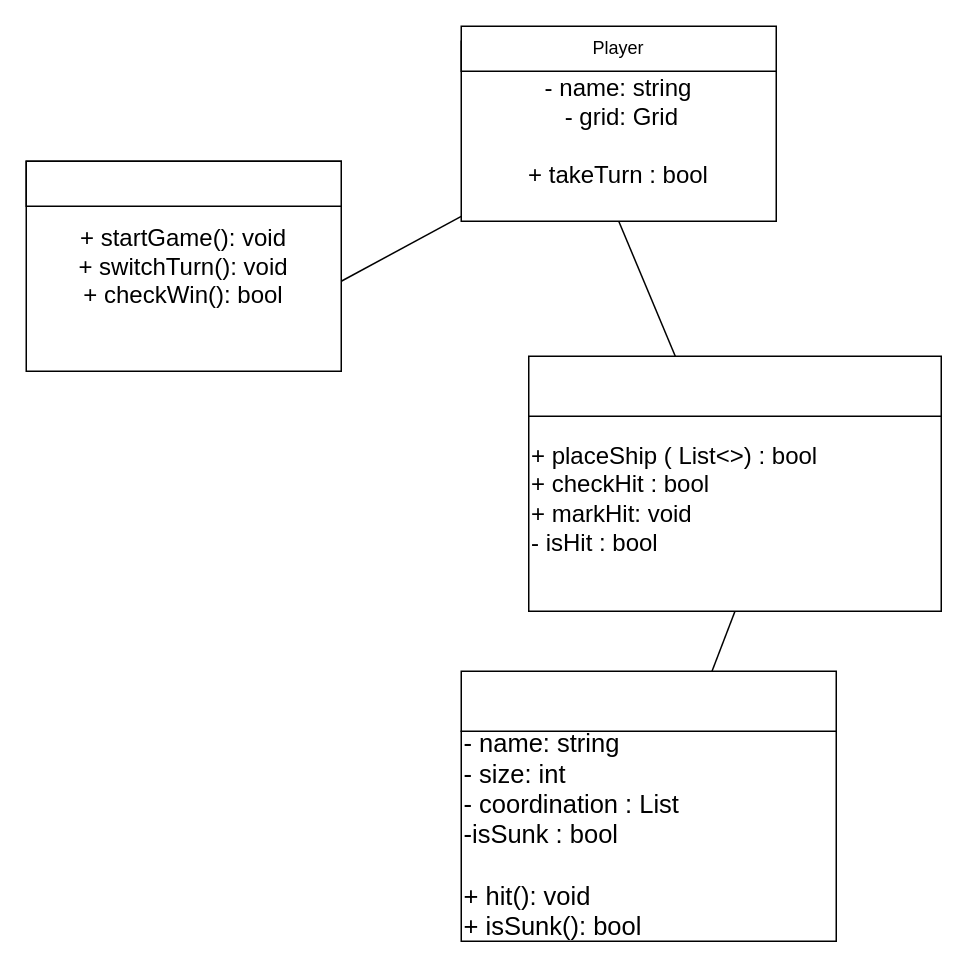
Some shapes in this 968 by 969 pixel diagram are drawn without their labels. Here are the shapes that lost their labels. From the top down, the centre of each, then its label:
At [183,183]: "Game".
At [734,385]: "Grid".
At [648,700]: "Ship".
